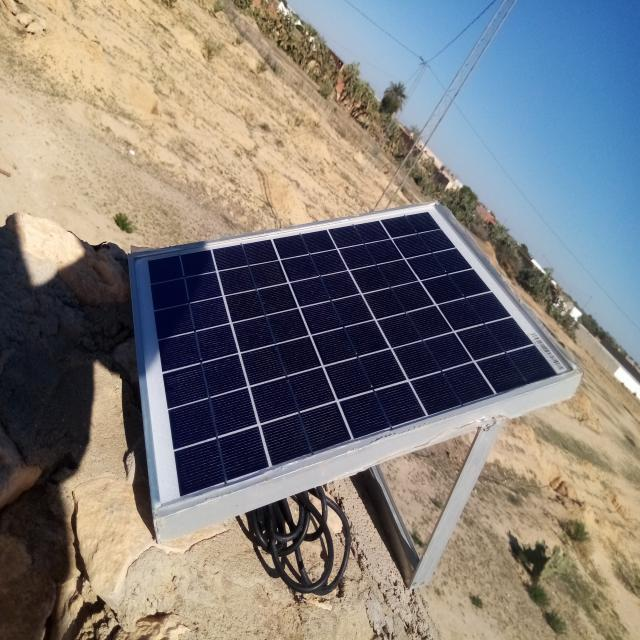no faulty: (131, 201, 578, 521)
